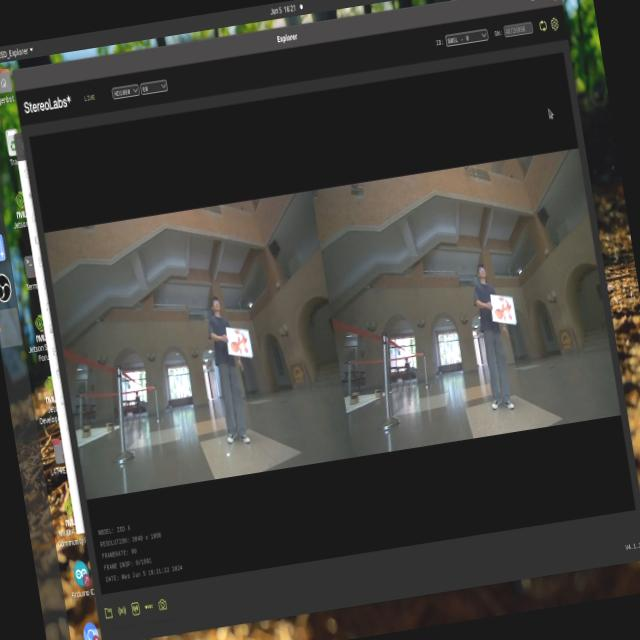red: (486, 292, 519, 331), (228, 333, 258, 366)
